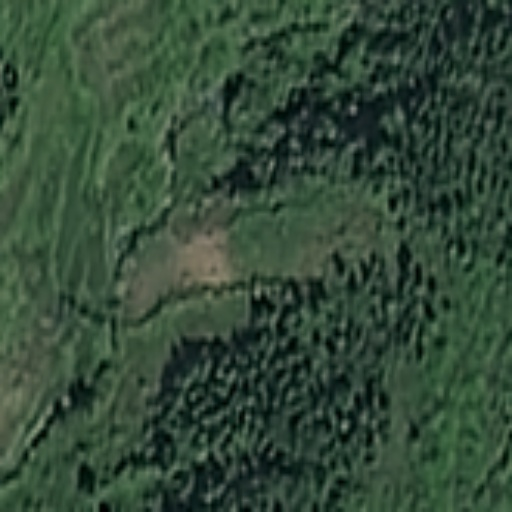landslide: (148, 221, 274, 302)
